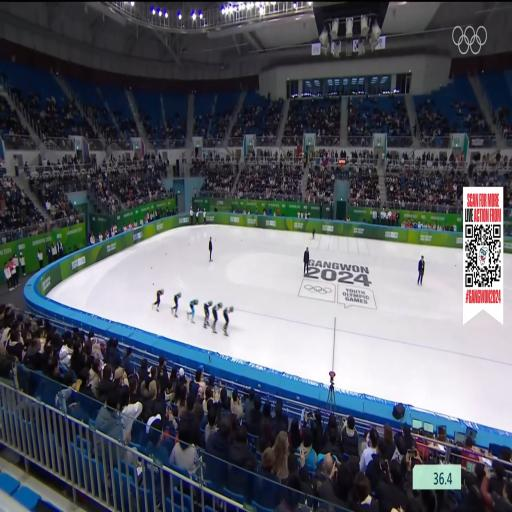Skater: (211, 302, 223, 333), (151, 288, 165, 312), (223, 307, 233, 336), (187, 299, 198, 323), (172, 293, 181, 318), (204, 301, 212, 328)
